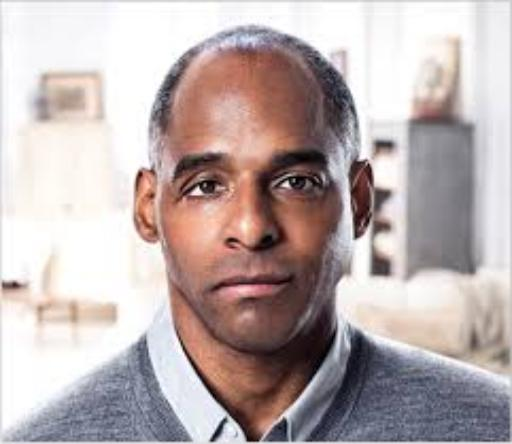left_eye: (274, 174, 328, 196)
left_lip_corner: (282, 274, 299, 291)
right_eye: (182, 177, 232, 201)
right_lip_corner: (206, 281, 224, 298)
